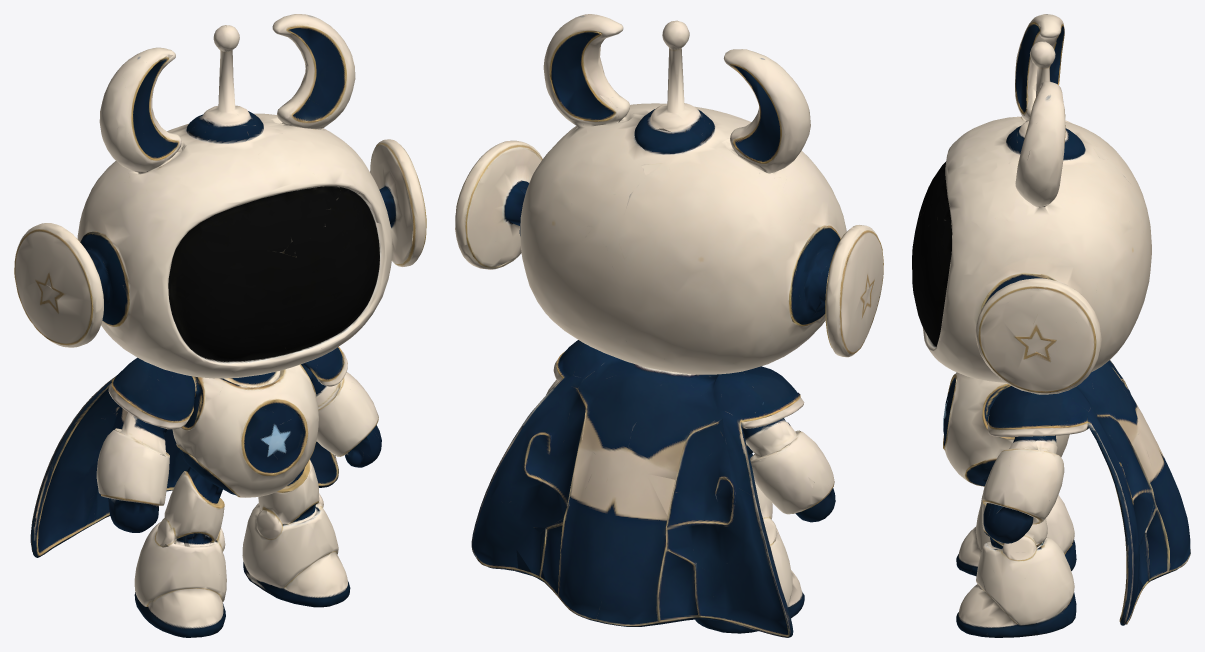
File: virgil-model-candidate-04.glb
3 views of the same model, side by side, from view 1: azimuth 30°, elevation 25°; view 2: azimuth 150°, elevation 25°; view 3: azimuth 270°, elevation 25° (orthographic). The views are drawn at different scales.
Bounding box in the file's own units: 1.38 × 2 × 0.9153.
1 material, 1 textured.
